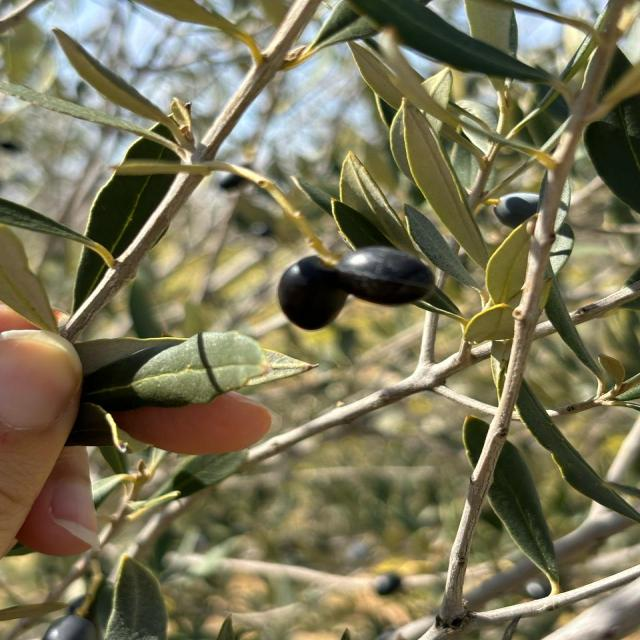Healthy: (278, 246, 434, 330)
